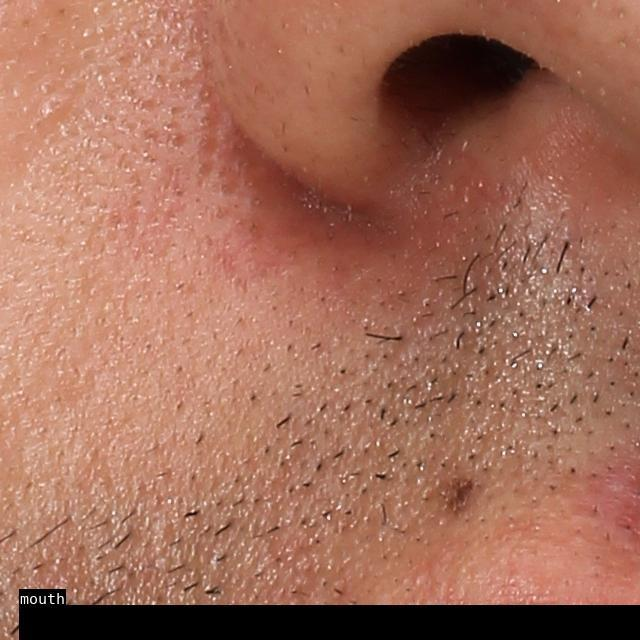nevus: (441, 468, 478, 516)
